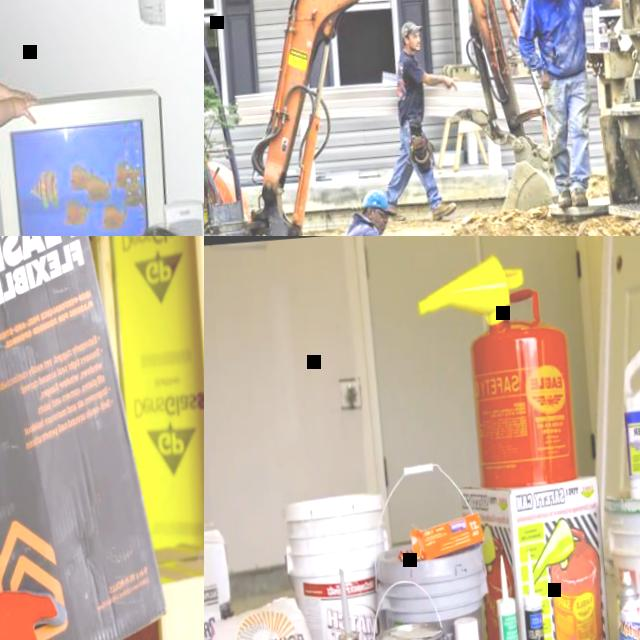NO-Hardhat: (360, 185, 397, 210), (399, 19, 424, 36)
NO-Mask: (408, 39, 422, 50), (377, 222, 387, 235)
NO-Safety Vest: (535, 0, 589, 73), (394, 54, 425, 117)
Person: (0, 236, 78, 640), (508, 0, 640, 206), (370, 14, 472, 224), (0, 0, 62, 236), (323, 181, 445, 236), (479, 0, 551, 55)
vehicle: (204, 0, 570, 236)
